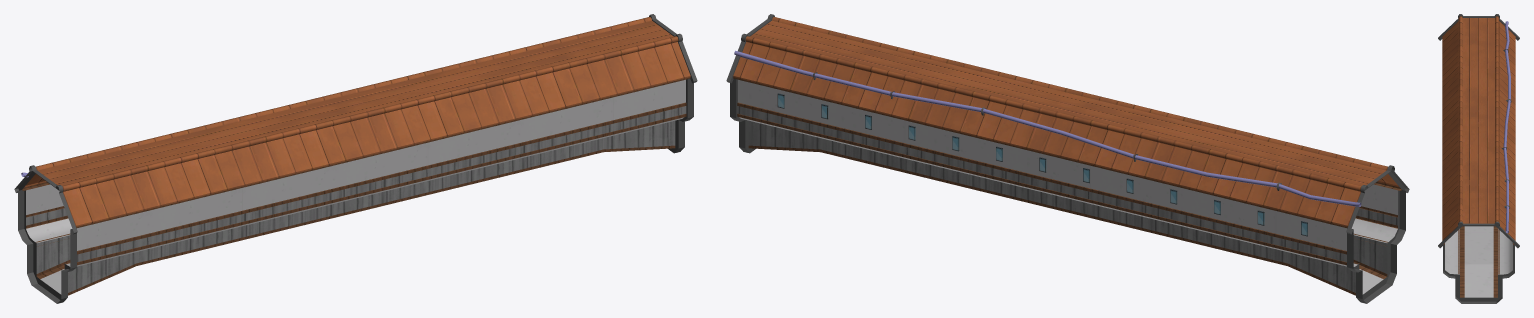
Rendered from SM_ENV_LKNVLD_CommonBuilding_A5.FBX.
3 renders of one model, left to right at view 1: azimuth 30°, elevation 25°; view 2: azimuth 150°, elevation 25°; view 3: azimuth 270°, elevation 25°, orthographic. The views are drawn at different scales.
Parts seen in each view (by area): view 1: SM_ENV_LKNVLD_CommonBuilding_A5; view 2: SM_ENV_LKNVLD_CommonBuilding_A5; view 3: SM_ENV_LKNVLD_CommonBuilding_A5.
Boxes of the visible parts, left/top/right/bottom form: SM_ENV_LKNVLD_CommonBuilding_A5: left=14, top=14, right=697, bottom=303; SM_ENV_LKNVLD_CommonBuilding_A5: left=726, top=14, right=1409, bottom=303; SM_ENV_LKNVLD_CommonBuilding_A5: left=1438, top=14, right=1519, bottom=303.
Size of the model in its own units: 4810 by 868 by 796.
